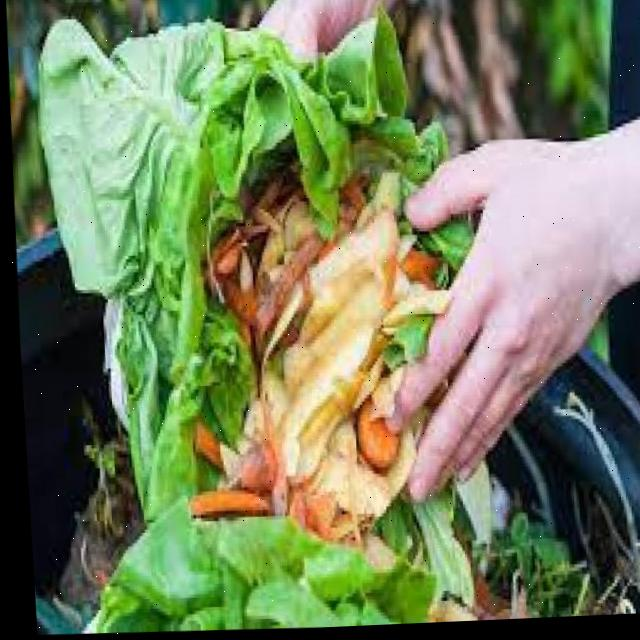Wet: (118, 52, 529, 636)
